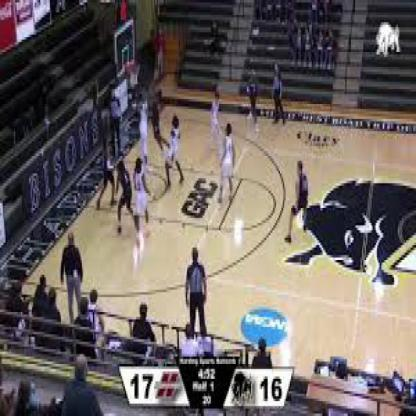rim: (128, 62, 140, 74)
